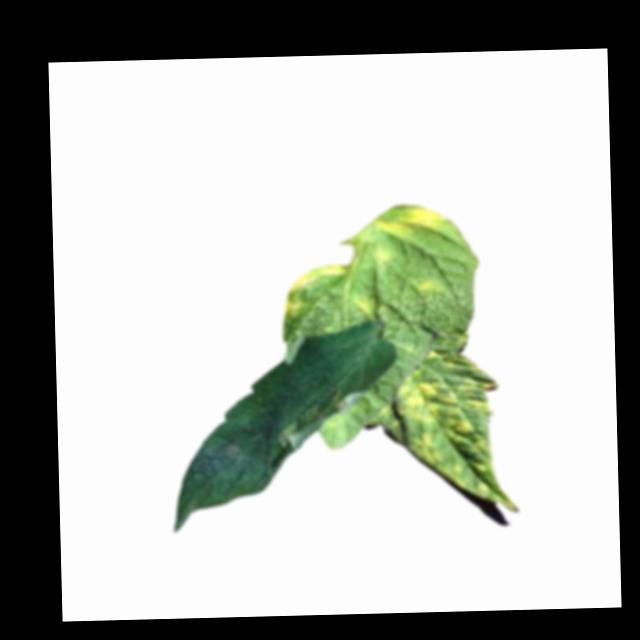Leaf_Mold: (395, 364, 501, 503), (275, 382, 364, 450), (283, 263, 349, 317), (378, 203, 447, 241), (413, 274, 438, 297), (358, 295, 377, 316)
